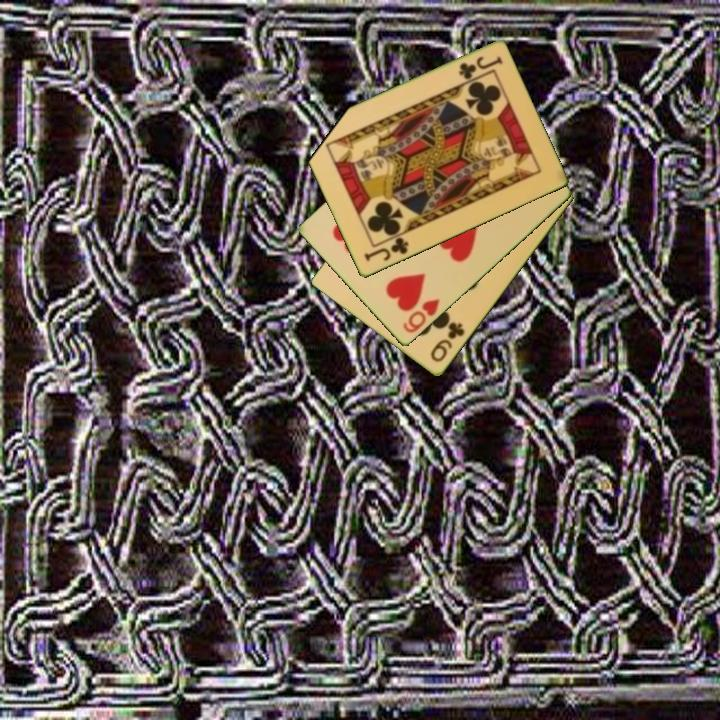6h: (399, 295, 443, 336)
9c: (427, 319, 468, 366)
Jc: (360, 234, 412, 264), (455, 53, 505, 83)
